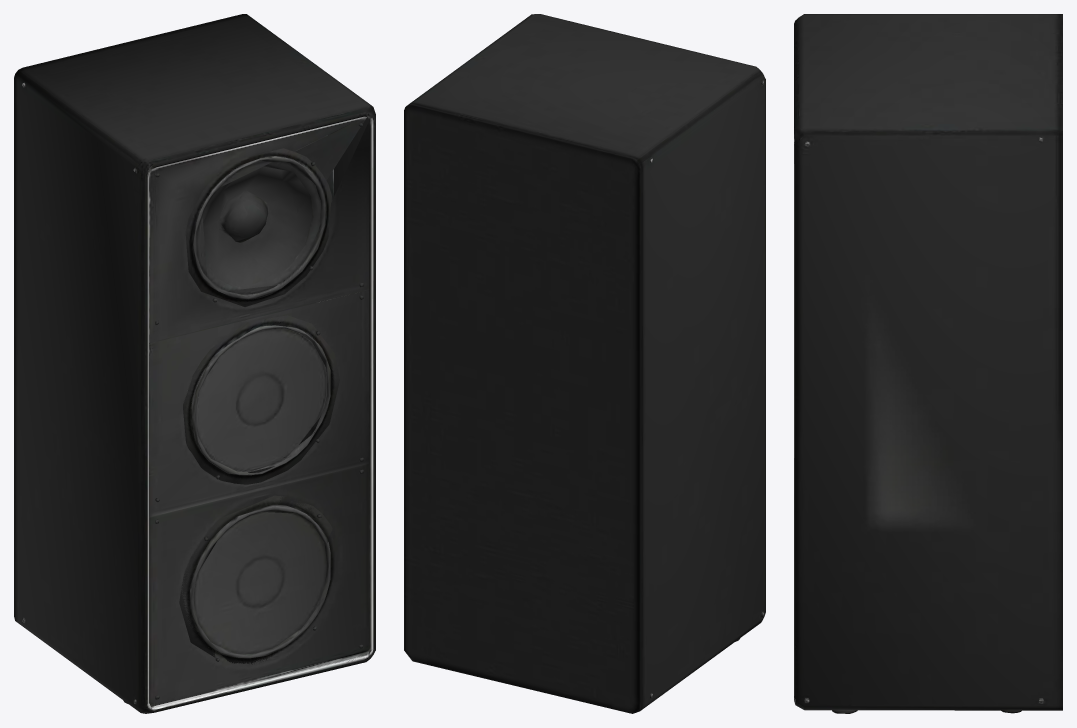
File: studio_speaker.glb
The picture shows the model from 3 angles, left to right: view 1: azimuth 30°, elevation 25°; view 2: azimuth 150°, elevation 25°; view 3: azimuth 270°, elevation 25°; orthographic projection. The views are drawn at different scales.
Parts seen in each view (by area): view 1: TesanaFacingY180; view 2: TesanaFacingY180; view 3: TesanaFacingY180.
Boxes of the visible parts, bbox=[...] form: TesanaFacingY180: bbox=[14, 14, 375, 713]; TesanaFacingY180: bbox=[404, 14, 765, 713]; TesanaFacingY180: bbox=[794, 14, 1062, 713].
Size of the model in its own units: 0.5378 by 1.2 by 0.5002.
Materials: 1 (1 with a texture image).
